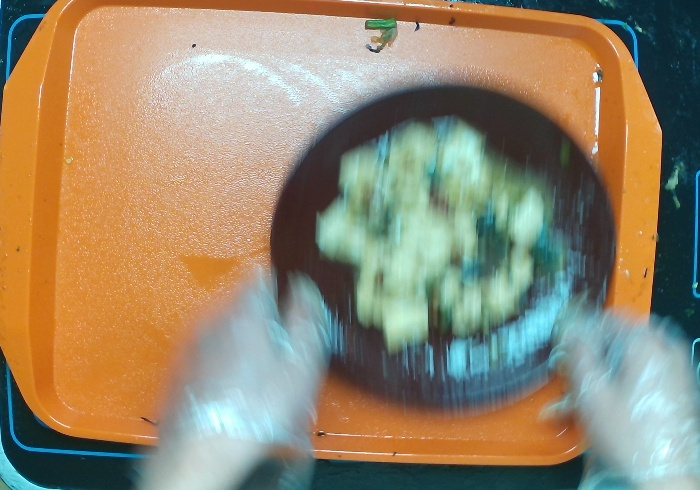HZYJPL-Ka_Fei_Yuan_Pan: (268, 79, 619, 415)
